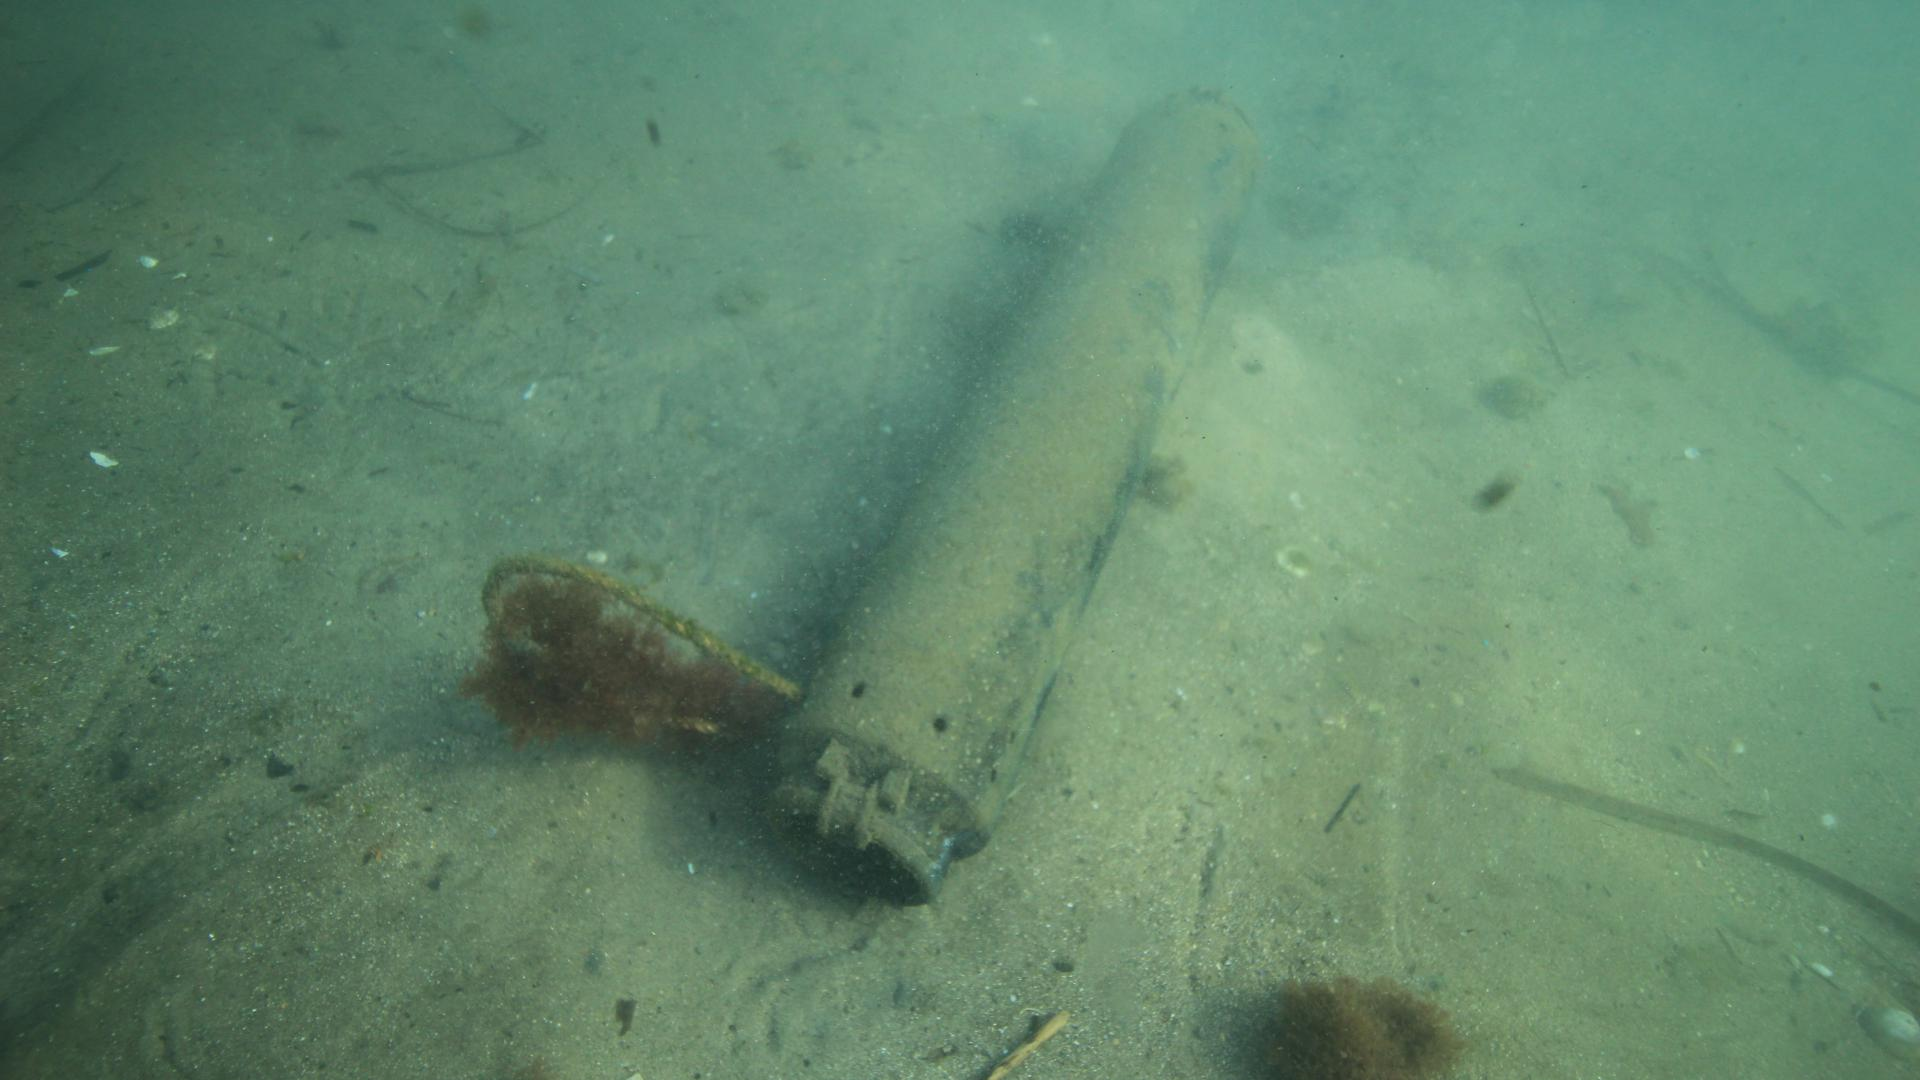bundle of ropes: (477, 549, 804, 736)
eel fish trap: (754, 84, 1270, 916)
